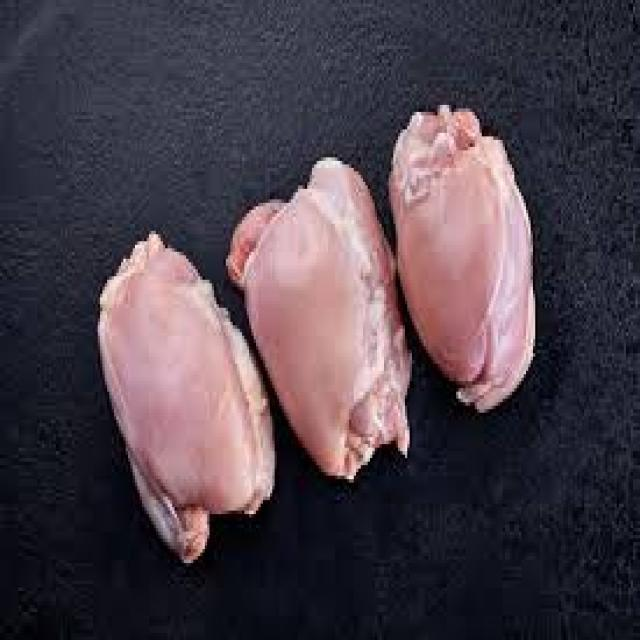thigh: (68, 217, 300, 590), (393, 97, 552, 435), (242, 131, 387, 498)
